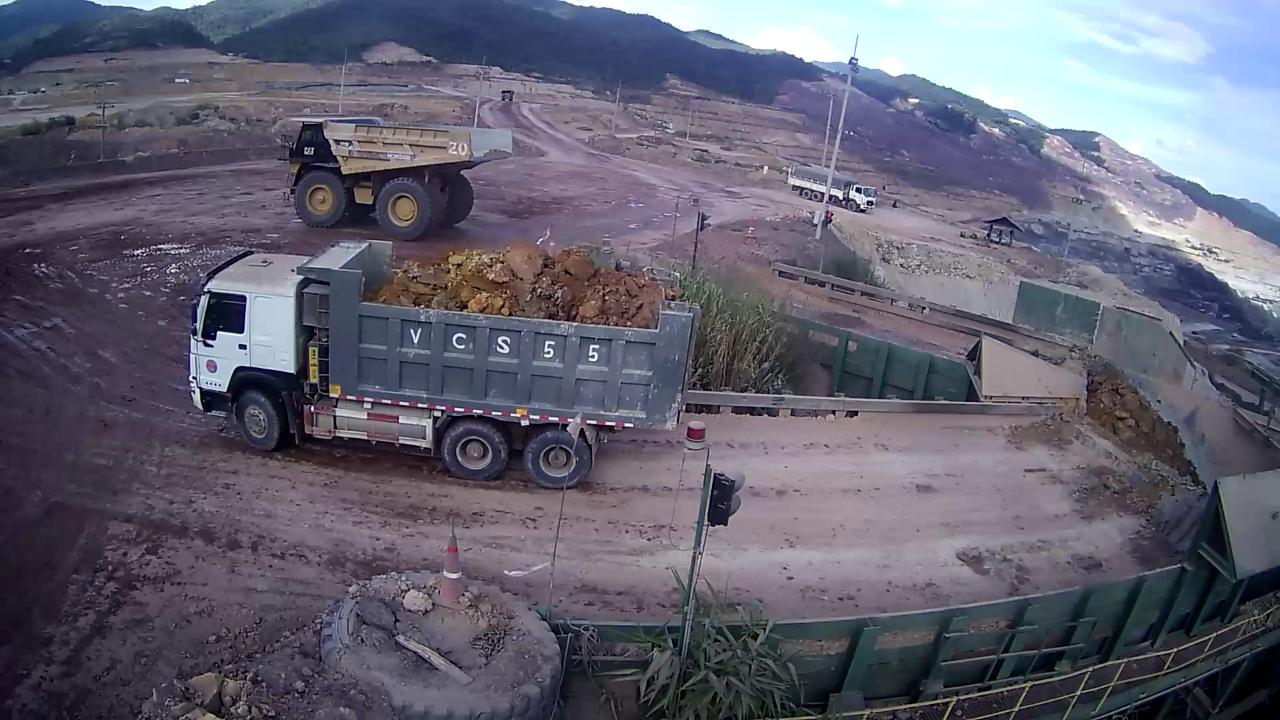empty_load: (371, 100, 490, 132)
mining_truck: (274, 83, 516, 241)
tail_number: (443, 140, 470, 157)
